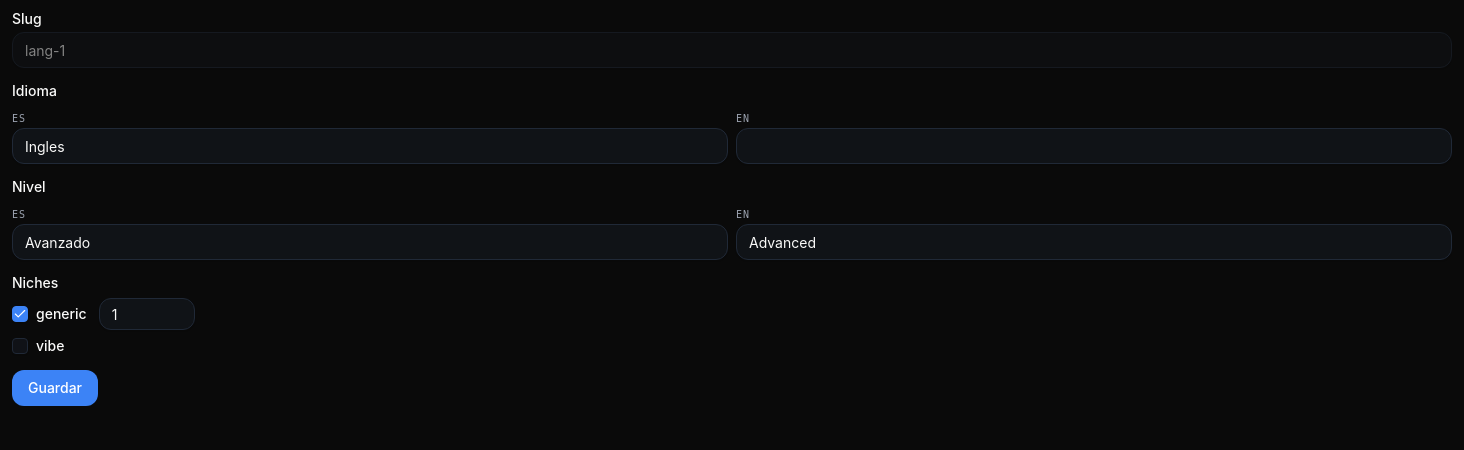
it: SimpleEntityForm › Given un language sin name.en When se guarda Then el error señala el locale en
The width and height of the screenshot is (1464, 450).
Step 1. Click the button with test id "cv-form-submit" → (55, 388), box [12, 370, 98, 406]
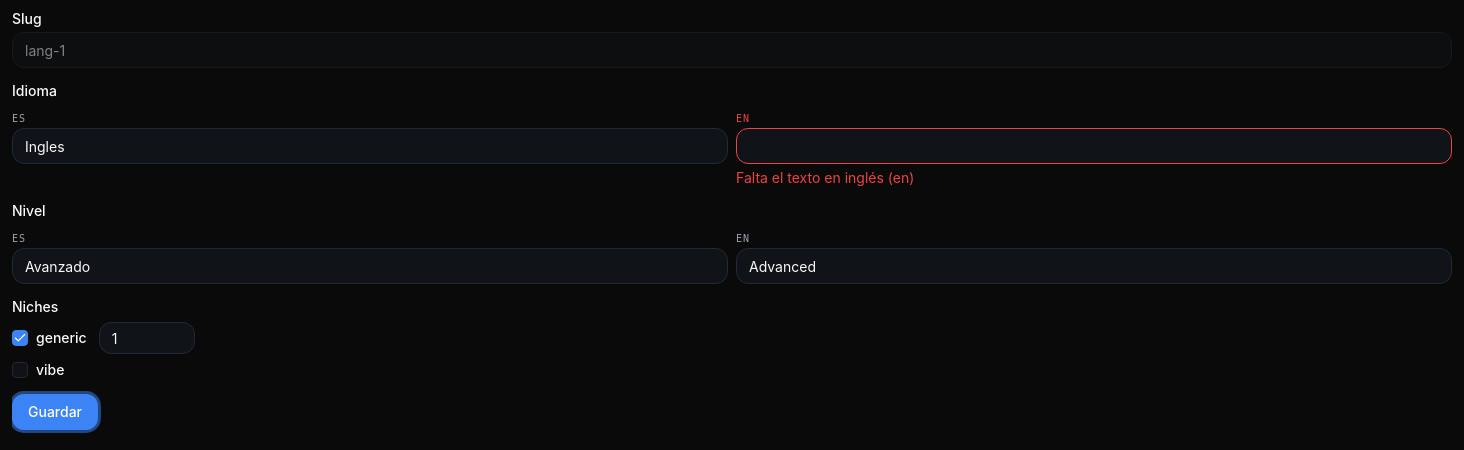
Expected: the text "Falta el texto en inglés (en)" is shown, [736, 169, 914, 186]
